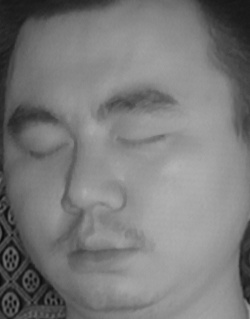blink: (115, 122, 169, 162), (19, 132, 70, 170)
mouth: (60, 224, 145, 277)
